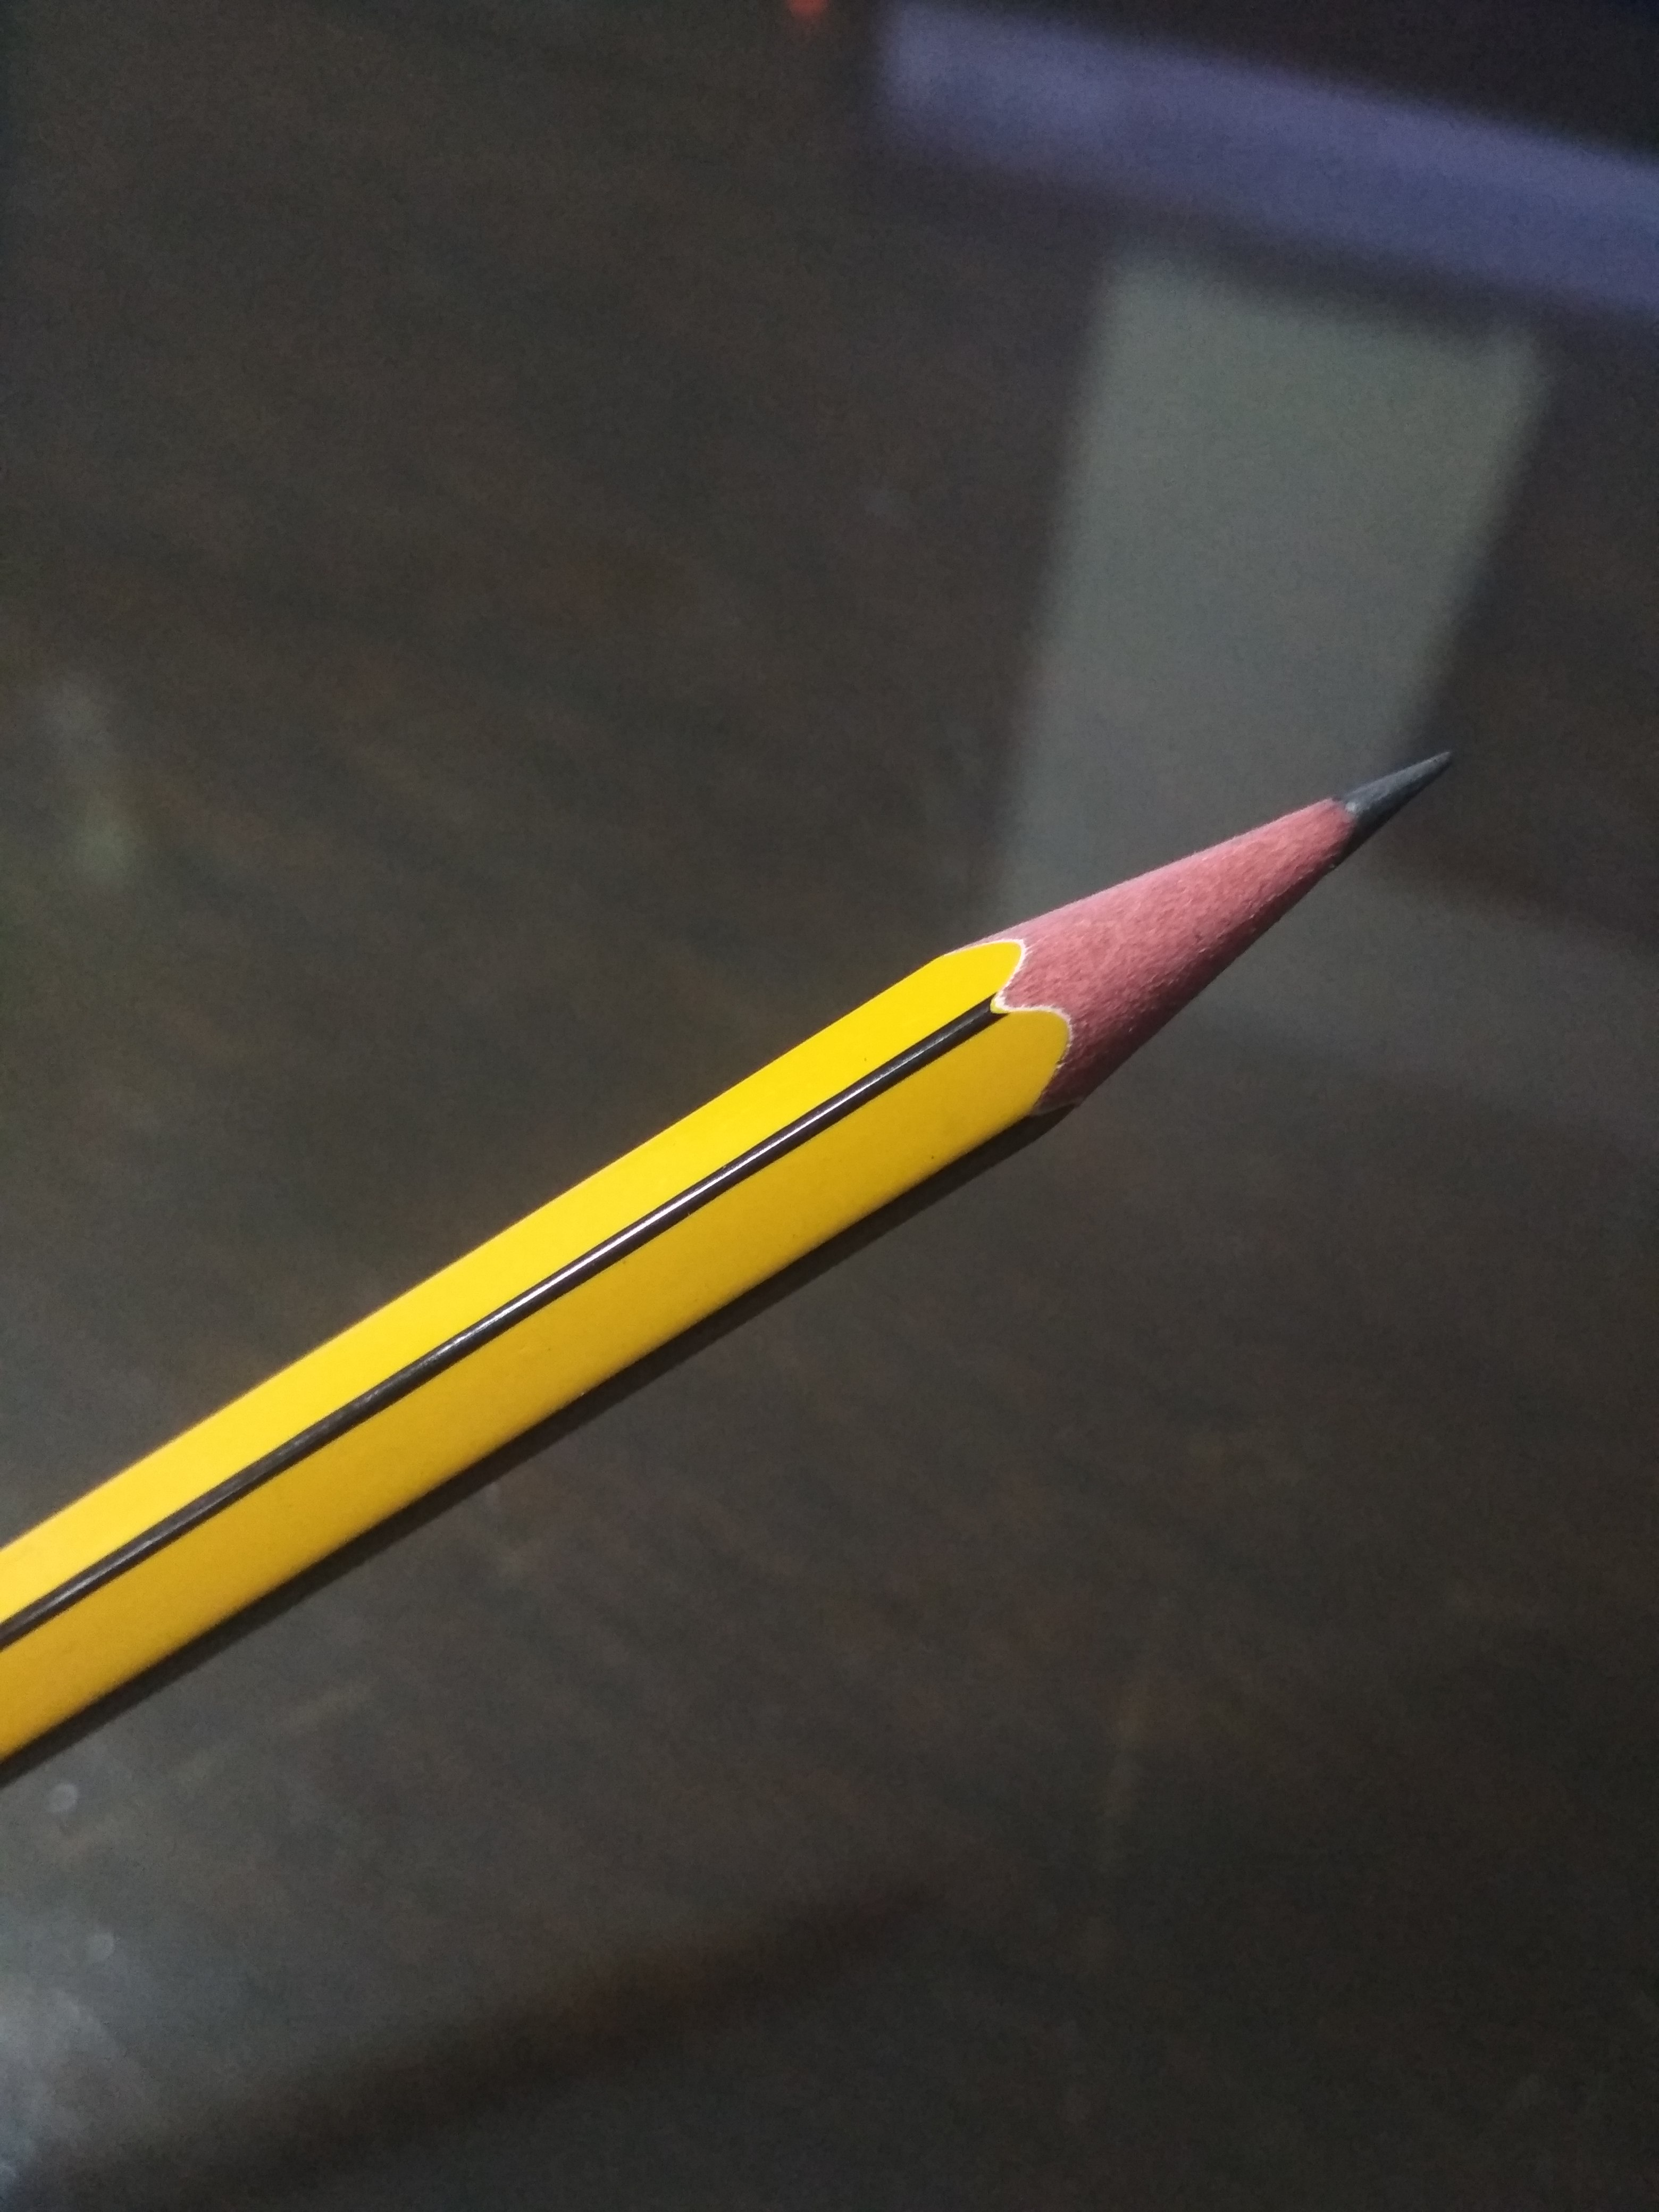pen_tip: (683, 671, 1539, 1287)
